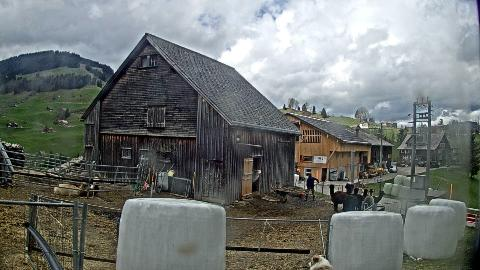car: (389, 165, 397, 173), (418, 161, 426, 167)
sheep: (53, 182, 89, 198), (329, 184, 347, 212), (68, 182, 104, 195), (365, 190, 385, 208), (345, 184, 357, 210), (364, 189, 374, 211), (354, 188, 364, 210), (354, 188, 364, 208), (252, 170, 262, 184), (360, 188, 368, 201)
